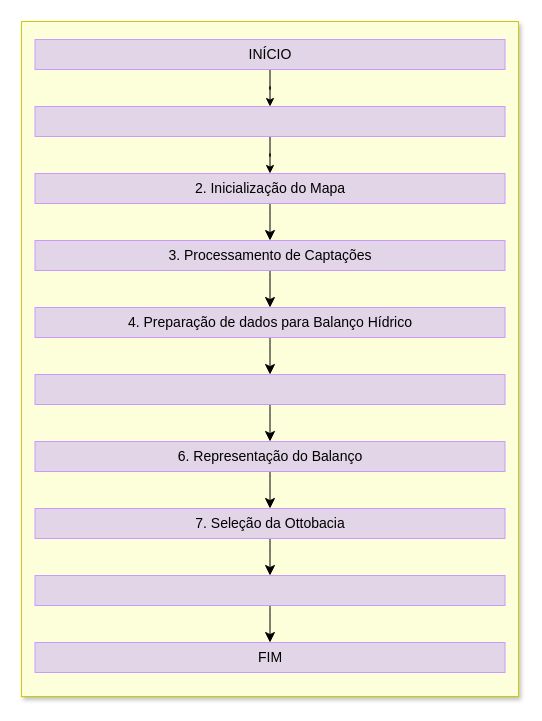
This 542x721 diagram has some shape labels left out. Here are the shapes that lost their labels. From the top down, the centre of each, then its label:
At point (269, 121): "1. Conexão com o Banco de Dados".
At point (269, 389): "5. Cálculo do Balanço Hídrico".
At point (269, 590): "8. Representação da Seleção".
